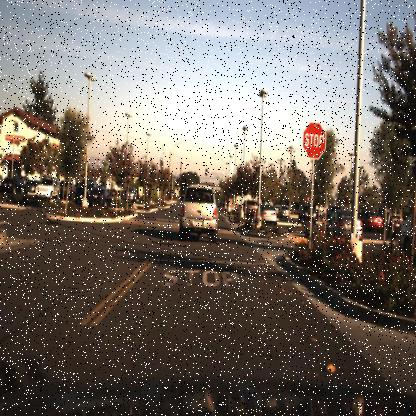car: (176, 179, 221, 249), (325, 205, 364, 250), (322, 206, 366, 238), (297, 199, 326, 232), (359, 210, 390, 236), (33, 175, 60, 201), (298, 201, 320, 227), (72, 178, 92, 206), (86, 187, 112, 208), (256, 202, 278, 226), (389, 206, 404, 238), (1, 173, 23, 193), (88, 186, 109, 206), (5, 175, 28, 193), (241, 198, 259, 220), (57, 177, 75, 198), (122, 182, 139, 204), (120, 184, 138, 204), (274, 200, 290, 220)
trafficLight-Red: (174, 176, 179, 186)
trafficLight-Yellow: (204, 166, 209, 178)
